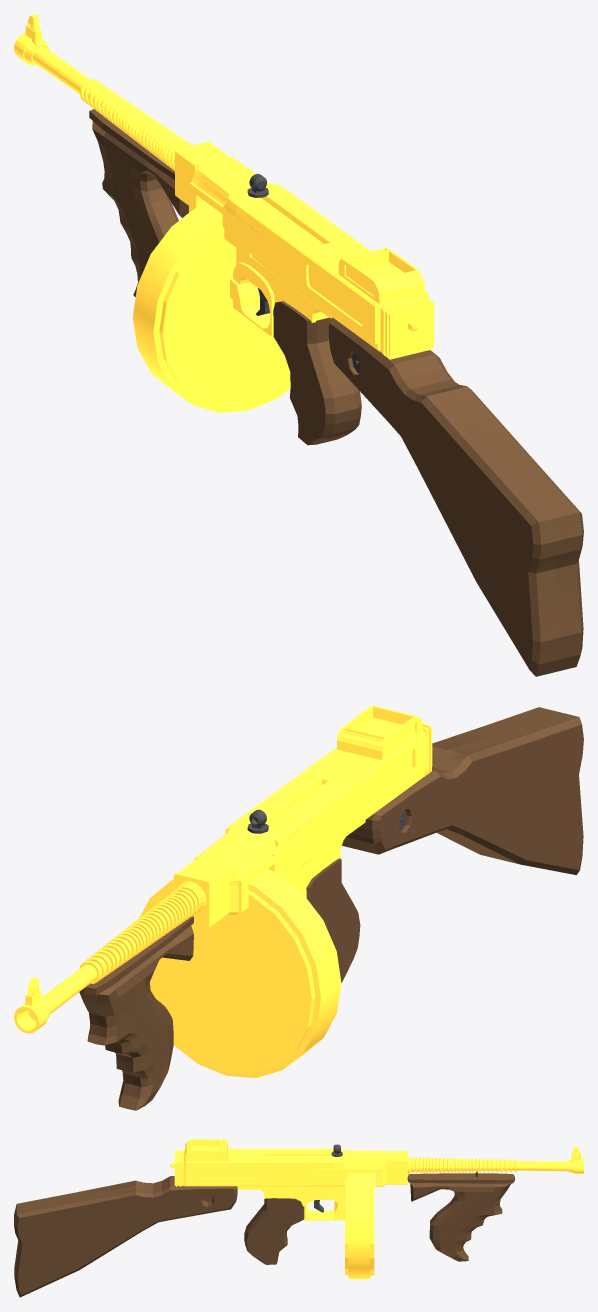
Rendered from chicago_typewriter.glb.
The picture shows the model from 3 angles, top to bottom: view 1: azimuth 30°, elevation 25°; view 2: azimuth 150°, elevation 25°; view 3: azimuth 270°, elevation 25°; orthographic projection. The views are drawn at different scales.
Visible parts, largest first — view 1: Body, Drum; view 2: Body, Drum; view 3: Body, Drum.
Part boxes in pixels (x1=…): Body: x1=14, y1=14, x2=583, y2=676; Drum: x1=132, y1=202, x2=290, y2=412; Body: x1=14, y1=705, x2=583, y2=1110; Drum: x1=139, y1=869, x2=341, y2=1077; Body: x1=14, y1=1139, x2=583, y2=1297; Drum: x1=345, y1=1173, x2=374, y2=1279.
Bounding box in the file's own units: 0.1735 × 0.2429 × 0.85.
